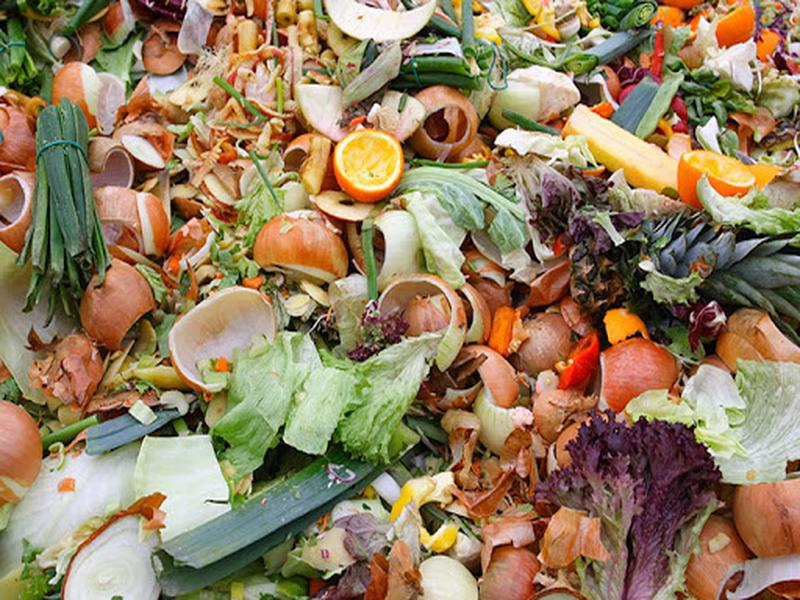vegetation: (1, 3, 800, 600)
